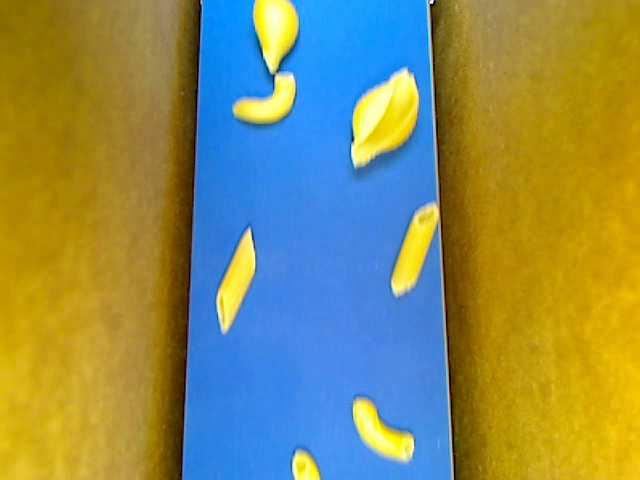elbow: (353, 396, 415, 461), (233, 72, 296, 123), (291, 449, 320, 479)
penne: (390, 202, 439, 297), (214, 226, 255, 335)
shell: (350, 67, 421, 167), (253, 1, 299, 75)
